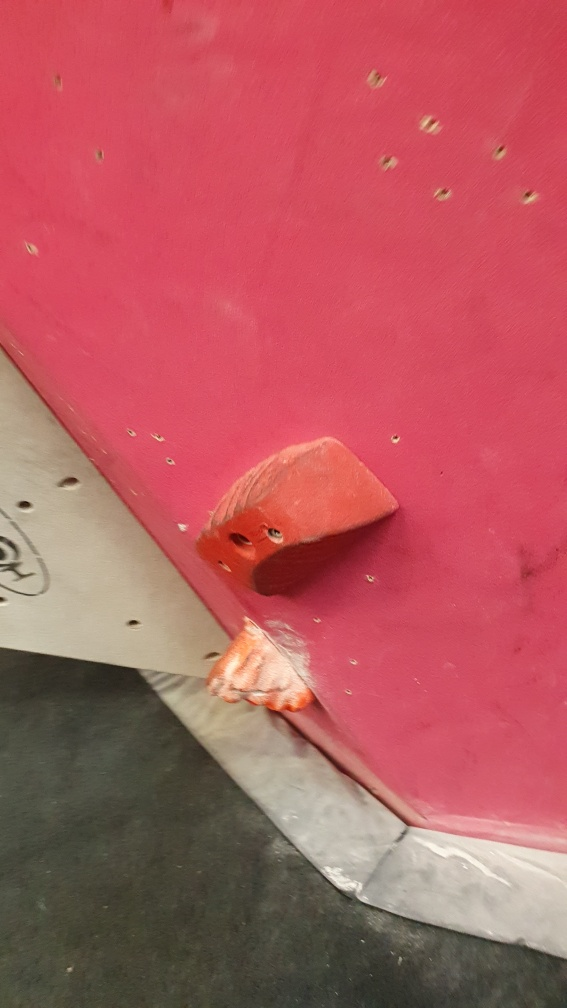Jug: (201, 619, 323, 714)
Pinch: (188, 430, 405, 599)
